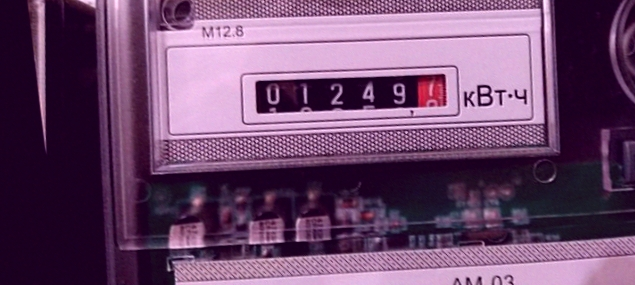0: (263, 80, 283, 107)
1: (296, 79, 313, 107)
2: (326, 81, 346, 109)
4: (359, 78, 378, 105)
7: (423, 72, 441, 99)
9: (388, 80, 408, 107)
screen: (235, 46, 466, 145)
